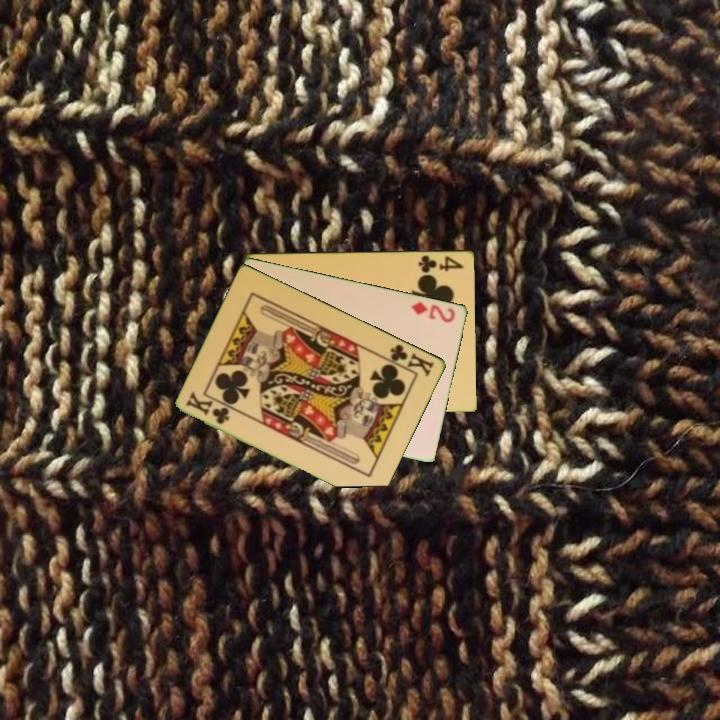2d: (408, 298, 458, 325)
4c: (415, 252, 466, 275)
Kc: (381, 340, 437, 379), (183, 389, 233, 427)
